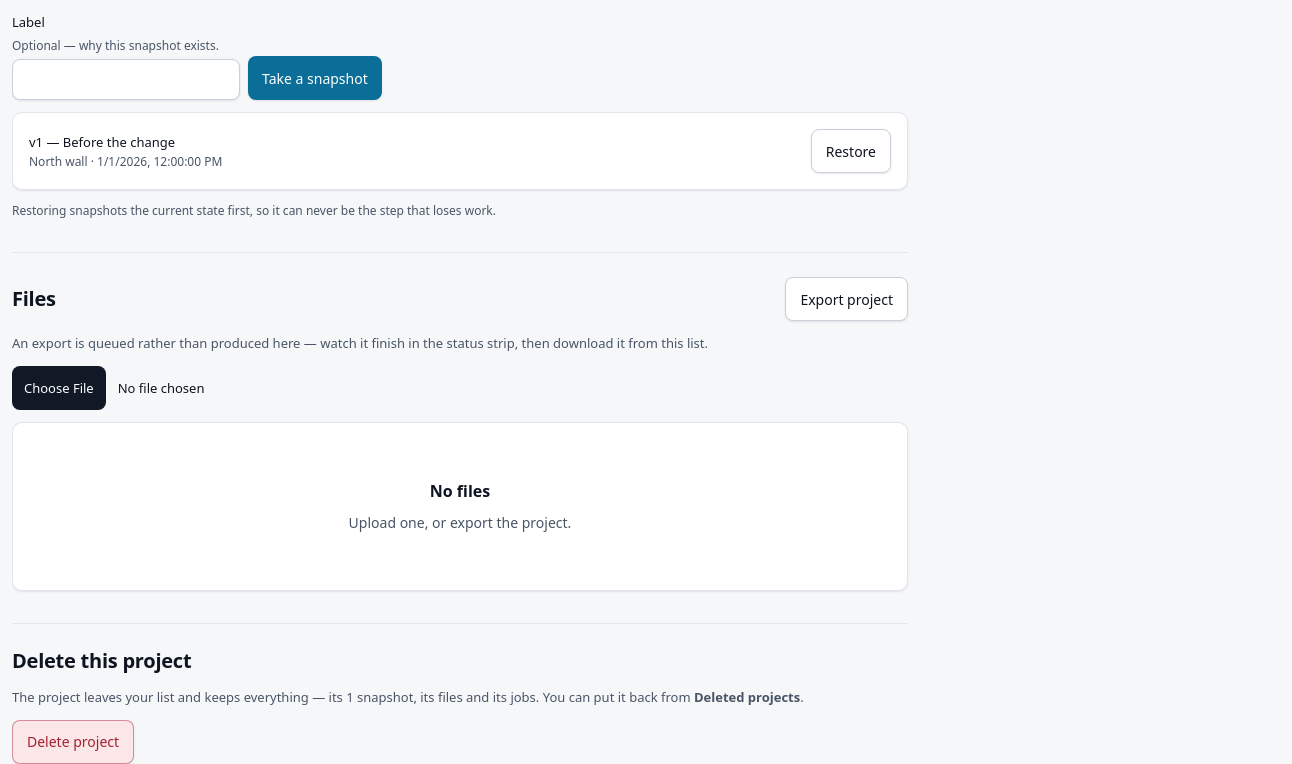
deleting › can be backed out of
(page scrolled)
What coordinates should you click on to do the following:
click the button "Delete project"
I would click on:
 (73, 742)
Its box is [12, 720, 134, 763].
(page scrolled)
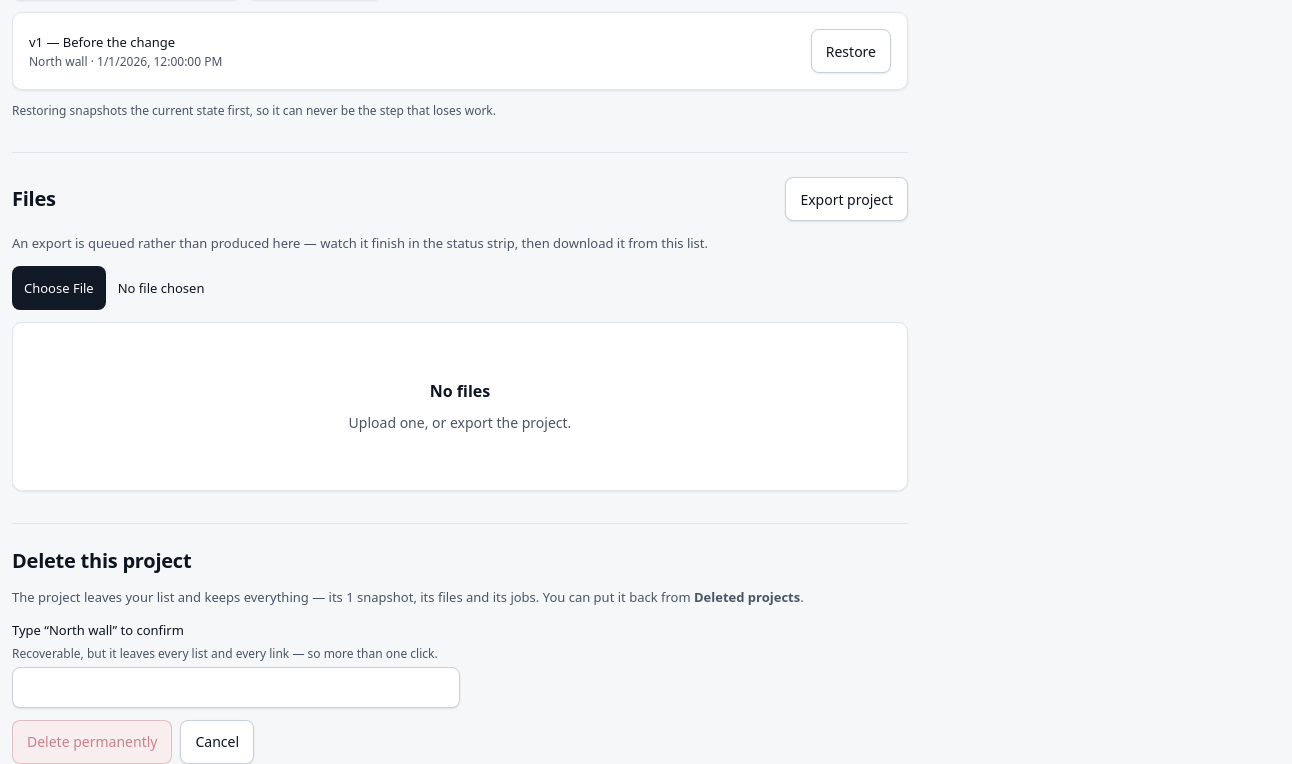
What coordinates should you click on to do the following:
click the button "Cancel"
I would click on:
 (217, 742)
Its box is [180, 720, 254, 763].
(page scrolled)
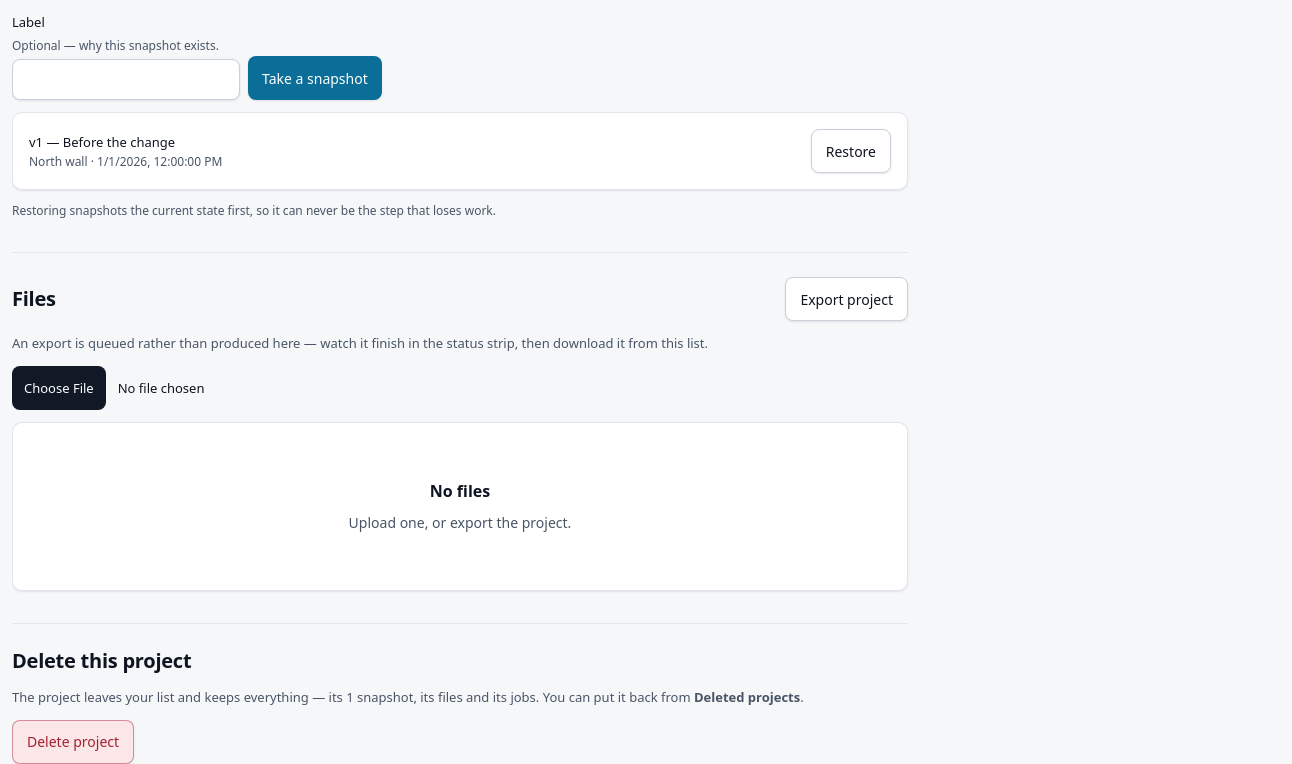
Result: the button "Delete permanently" is gone
